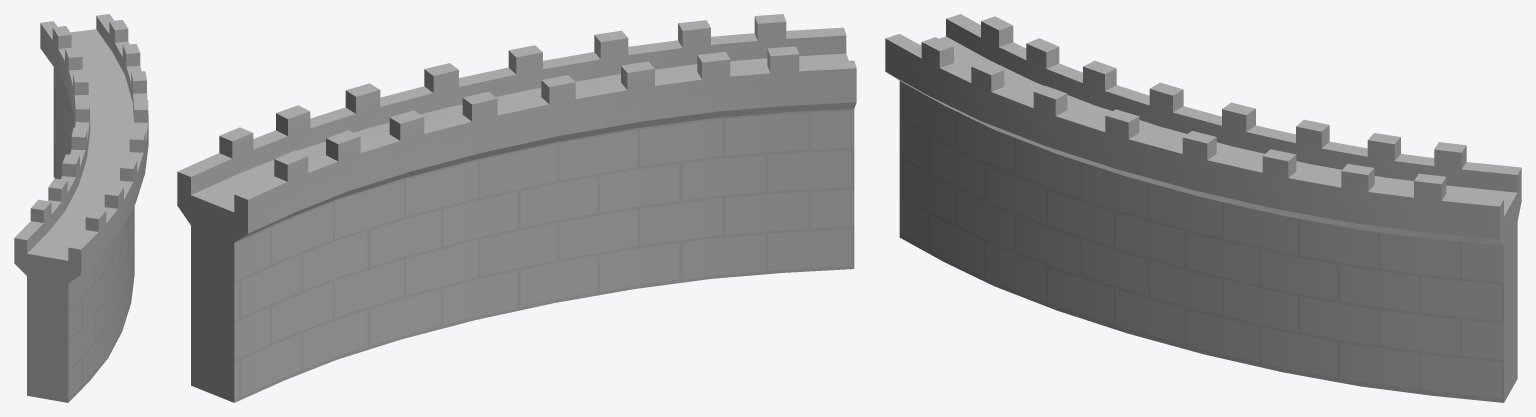
The model's file is duvar.fbx.
3 views of the same model, side by side, from view 1: azimuth 30°, elevation 25°; view 2: azimuth 150°, elevation 25°; view 3: azimuth 270°, elevation 25° (orthographic). The views are drawn at different scales.
Visible parts, largest first — view 1: Plane; view 2: Plane; view 3: Plane.
Part boxes in pixels (<box>): Plane: <box>14,14,148,402</box>; Plane: <box>177,14,856,402</box>; Plane: <box>885,14,1521,402</box>.
Bounding box in the file's own units: 781 × 417 × 1091.
